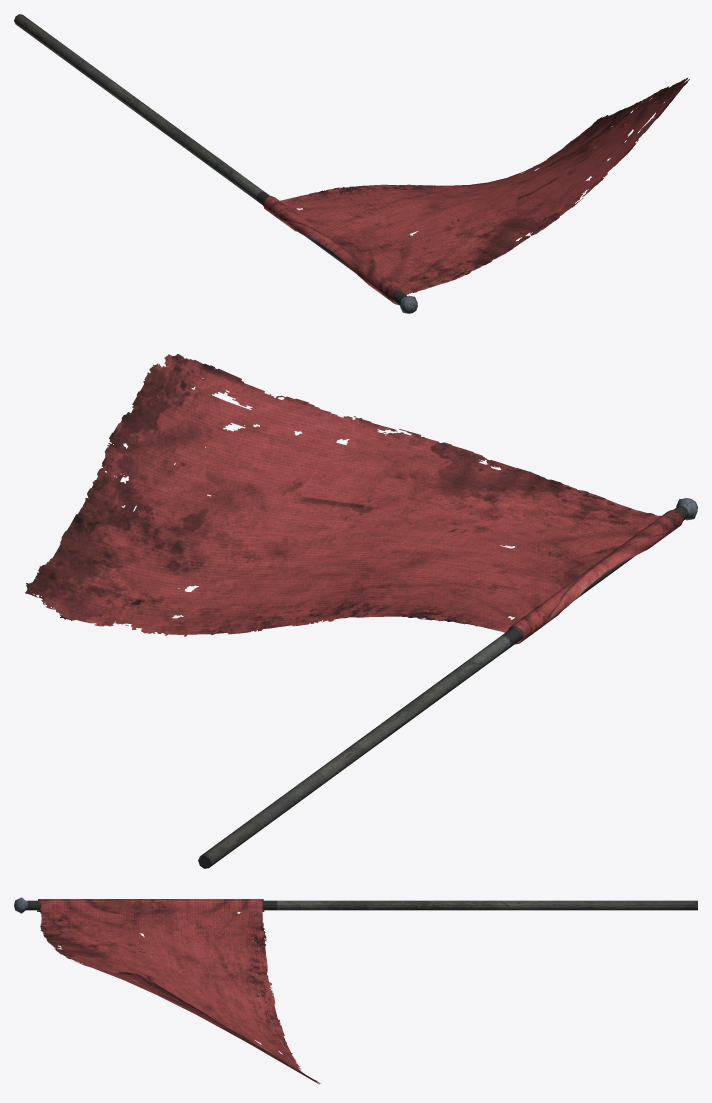
File: mp_flag_red_LOD0.obj
3 renders of one model, top to bottom at view 1: azimuth 30°, elevation 25°; view 2: azimuth 150°, elevation 25°; view 3: azimuth 270°, elevation 25°, orthographic. The views are drawn at different scales.
Parts seen in each view (by area): view 1: mtl_flag_red, mtl_mp_flag_base; view 2: mtl_flag_red, mtl_mp_flag_base; view 3: mtl_flag_red, mtl_mp_flag_base.
Boxes of the visible parts, x1,y1,x2,y2 form: mtl_flag_red: (262,77,689,304); mtl_mp_flag_base: (14,14,417,313); mtl_flag_red: (25,354,683,644); mtl_mp_flag_base: (198,498,697,868); mtl_flag_red: (37,899,320,1084); mtl_mp_flag_base: (14,897,697,913).
Bounding box in the file's own units: 116 × 44.12 × 212.
